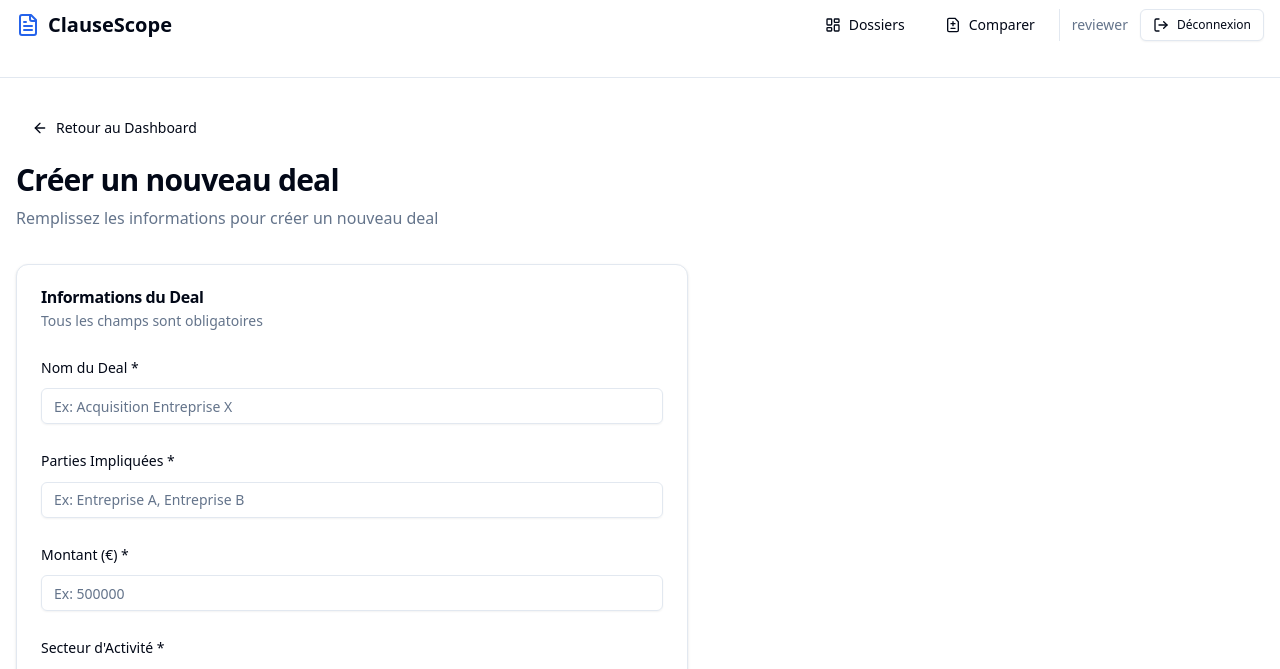
Test: CreateDealPage › should show validation error when montant is invalid
Type "Test Deal" into the field labelled "Nom du Deal *".
click(352, 406); type("Test Deal")  # box [41, 388, 663, 424]
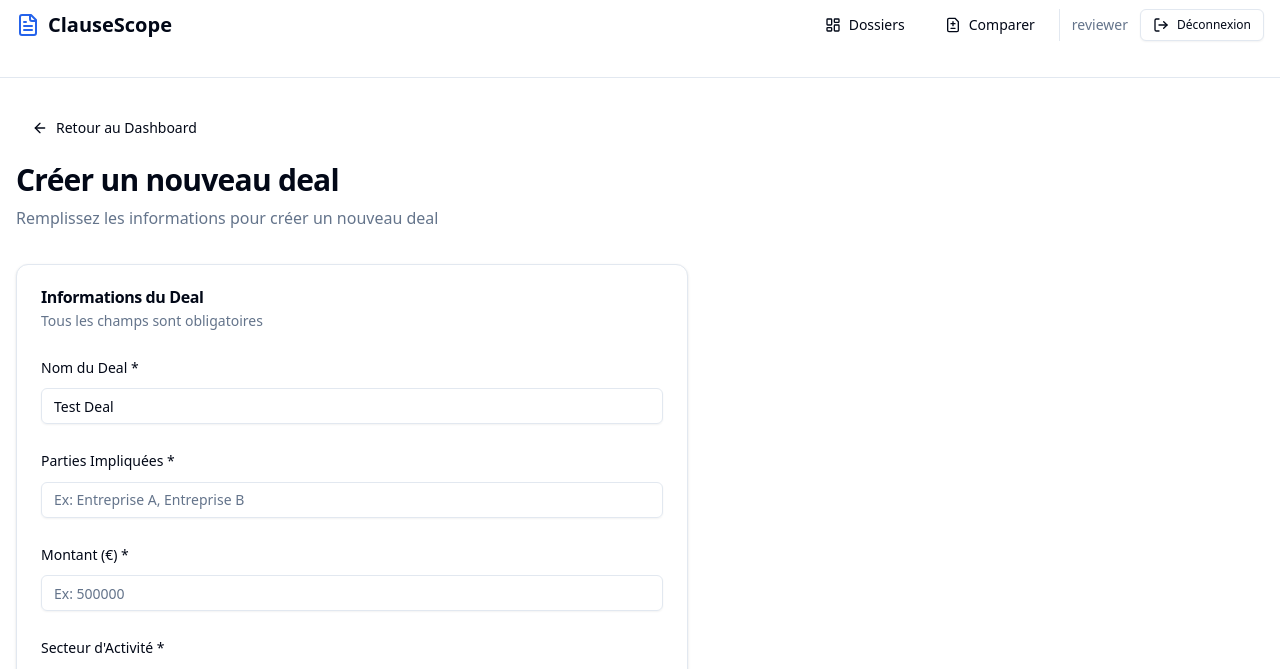
Type "Company A, Company B" into the field labelled "Parties Impliquées *".
click(352, 500); type("Company A, Company B")  # box [41, 482, 663, 518]
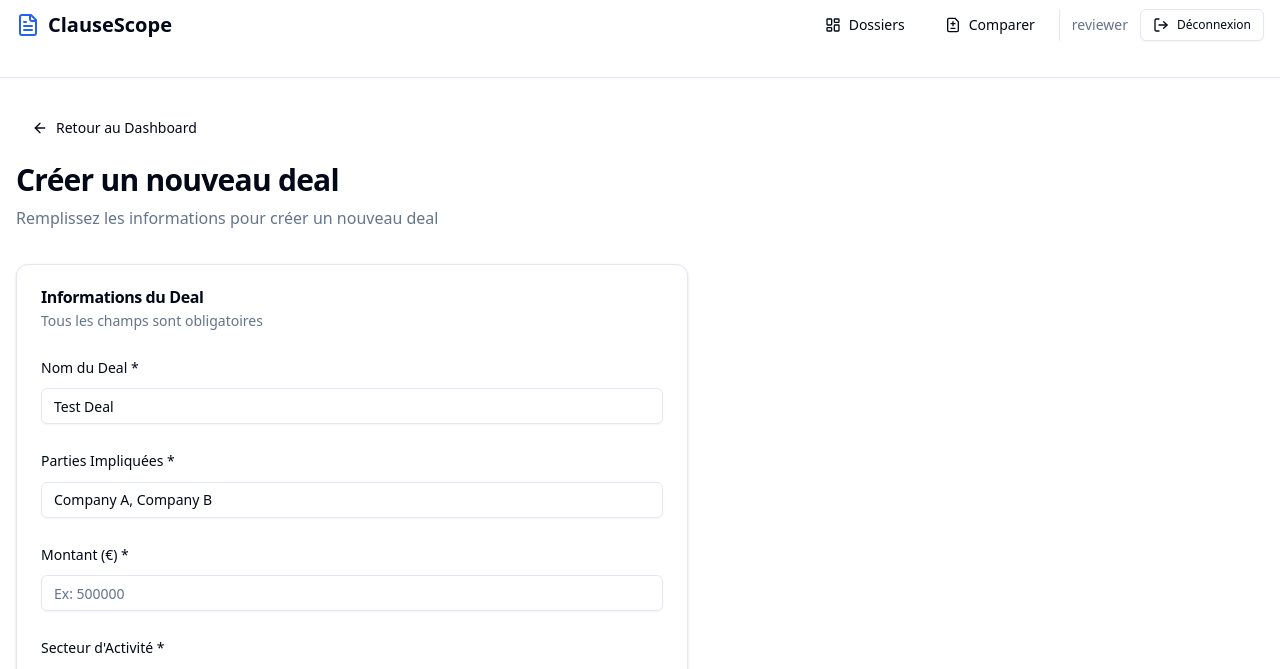
Type "0" into the number field labelled "Montant (€) *".
click(352, 593); type("0")  # box [41, 575, 663, 611]
(page scrolled)
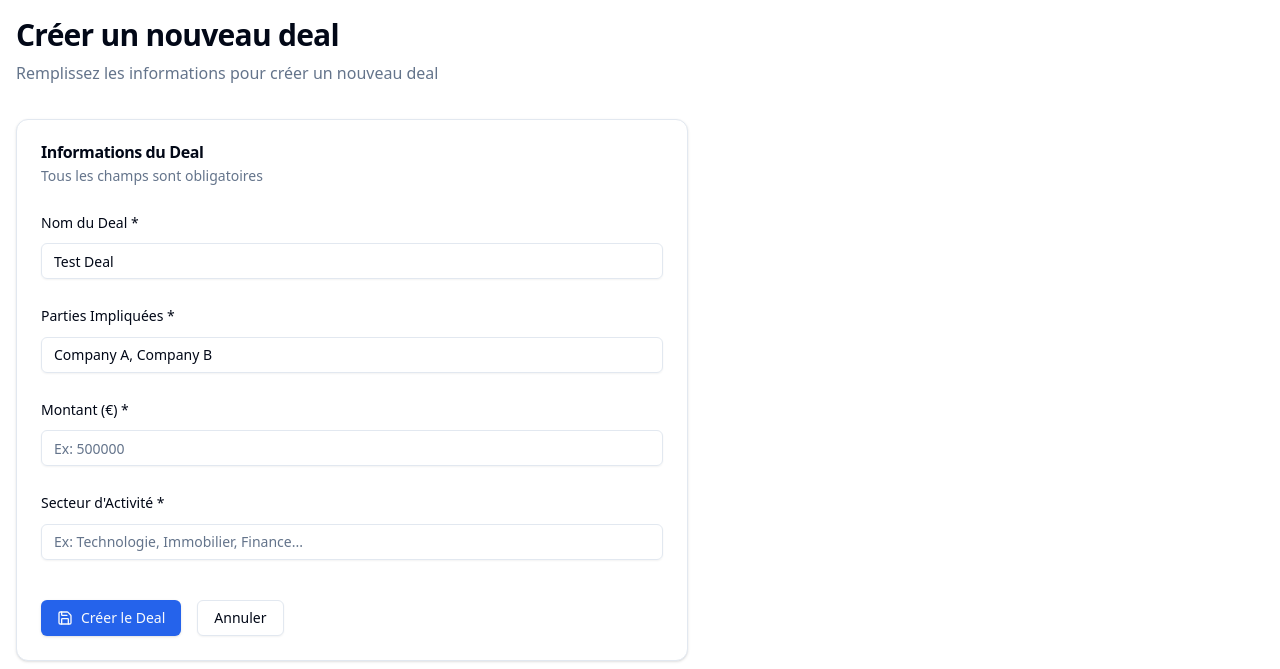
Click the button "Créer le Deal".
click(111, 618)  # box [41, 600, 181, 636]
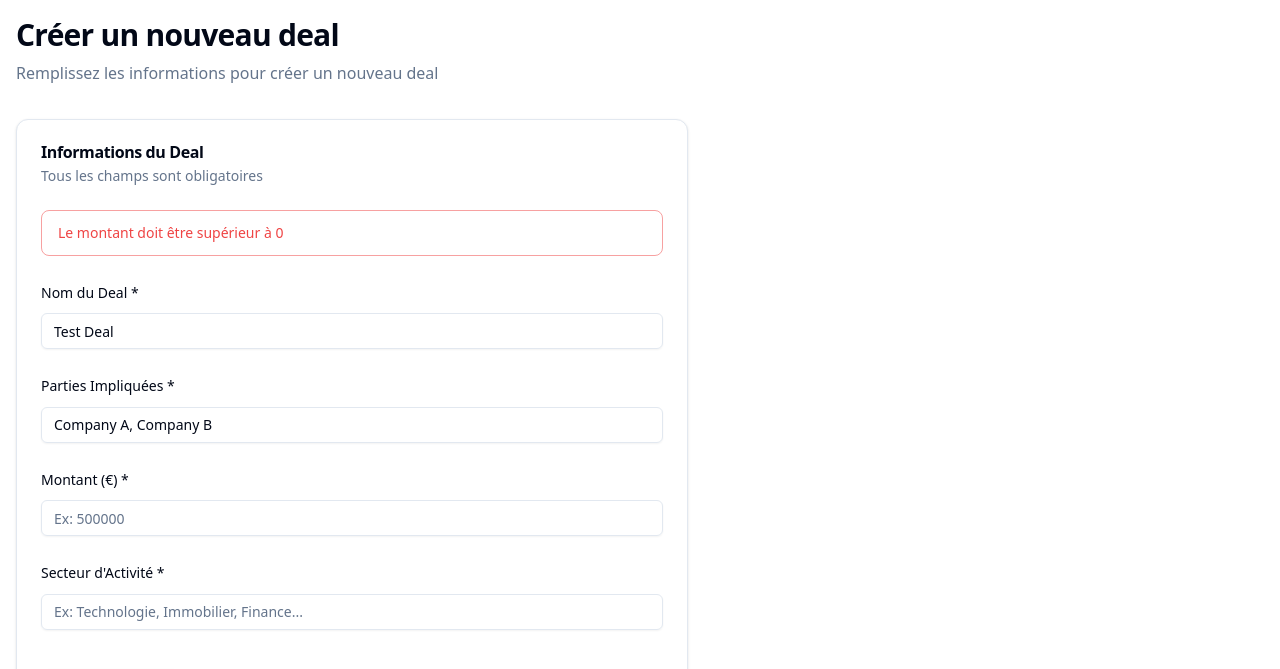
Expected: the text "Le montant doit être supérieur à 0" is shown, [58, 223, 284, 242]
